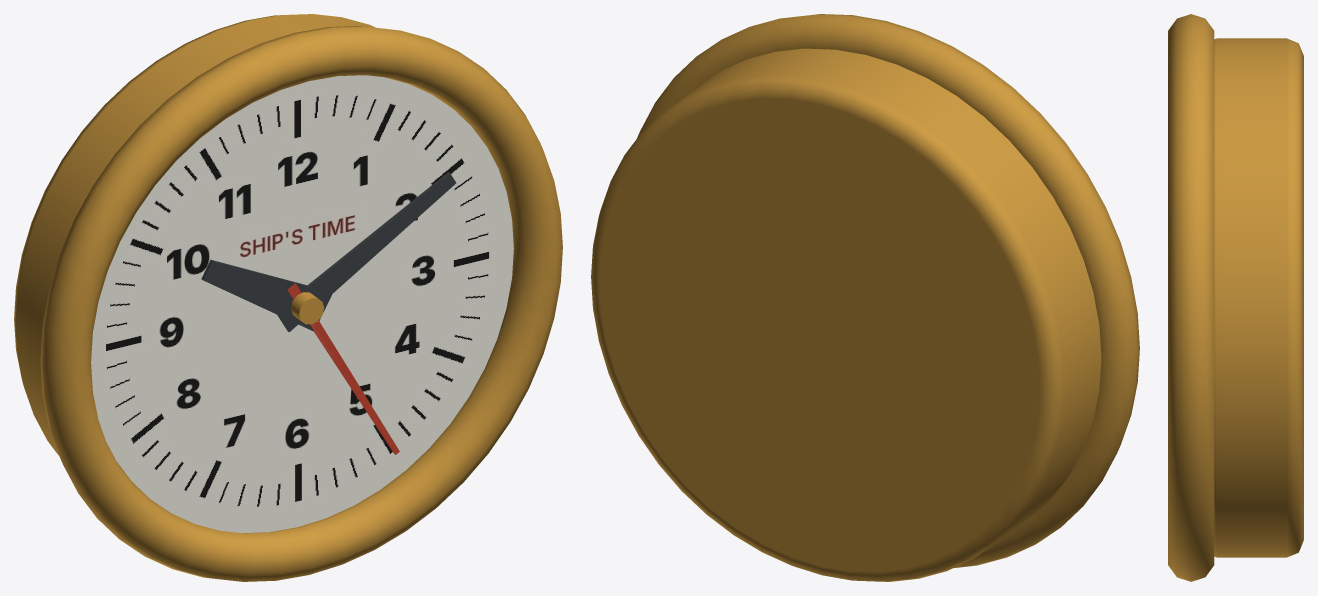
Rendered from ShipClock.glb.
3 views of the same model, side by side, from view 1: azimuth 30°, elevation 25°; view 2: azimuth 150°, elevation 25°; view 3: azimuth 270°, elevation 25° (orthographic). The views are drawn at different scales.
Visible parts, largest first — view 1: ShipClock_Body, ShipClock_MinuteHand, ShipClock_HourHand, ShipClock_SecondHand; view 2: ShipClock_Body; view 3: ShipClock_Body.
Part boxes in pixels (x1=…): ShipClock_Body: x1=14, y1=14, x2=562, y2=581; ShipClock_MinuteHand: x1=276, y1=172, x2=456, y2=332; ShipClock_HourHand: x1=201, y1=260, x2=331, y2=331; ShipClock_SecondHand: x1=287, y1=283, x2=399, y2=454; ShipClock_Body: x1=591, y1=14, x2=1139, y2=581; ShipClock_Body: x1=1168, y1=14, x2=1303, y2=581.
Size of the model in its own units: 0.328 by 0.328 by 0.0783.
4 materials, 3 textured.
